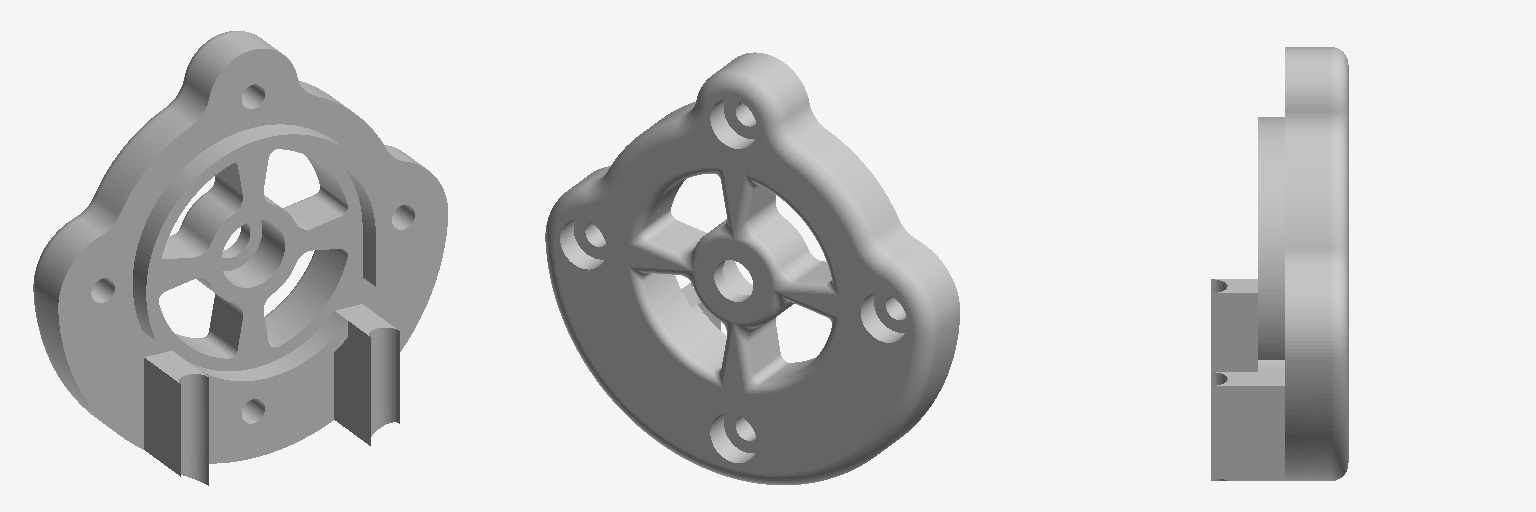
Rendered from Pump Body Cap.obj.
3 renders of one model, left to right at view 1: azimuth 30°, elevation 25°; view 2: azimuth 150°, elevation 25°; view 3: azimuth 270°, elevation 25°, orthographic.
Parts seen in each view (by area): view 1: Body1; view 2: Body1; view 3: Body1.
Part boxes in pixels (bbox=[...]): Body1: bbox=[33, 31, 447, 485]; Body1: bbox=[545, 52, 959, 484]; Body1: bbox=[1211, 47, 1348, 480].
Bounding box in the file's own units: 49.96 × 50 × 15.2.